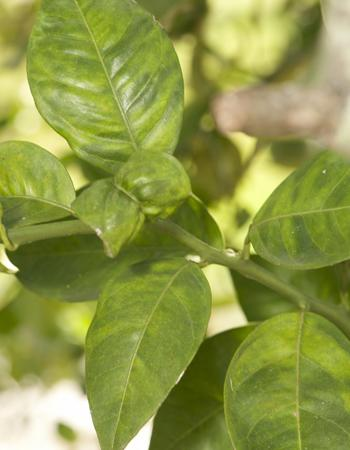Citrus Greening: (24, 0, 185, 184), (83, 254, 213, 450), (220, 308, 350, 450)
